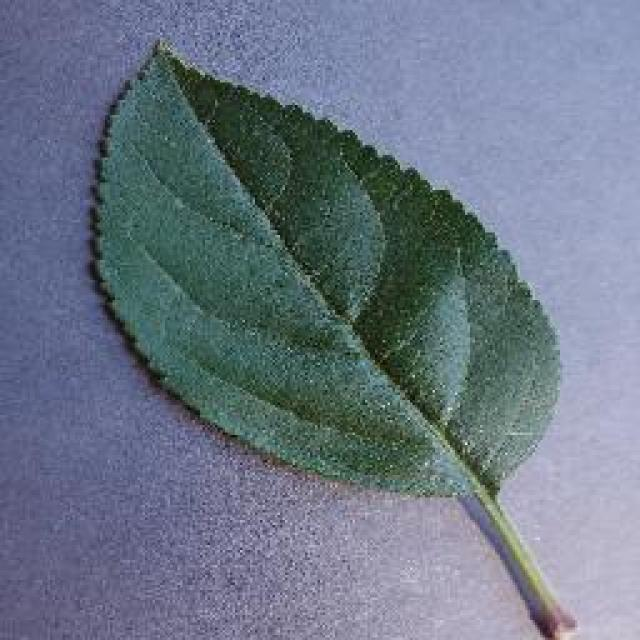apple scab disease: (85, 35, 583, 637)
